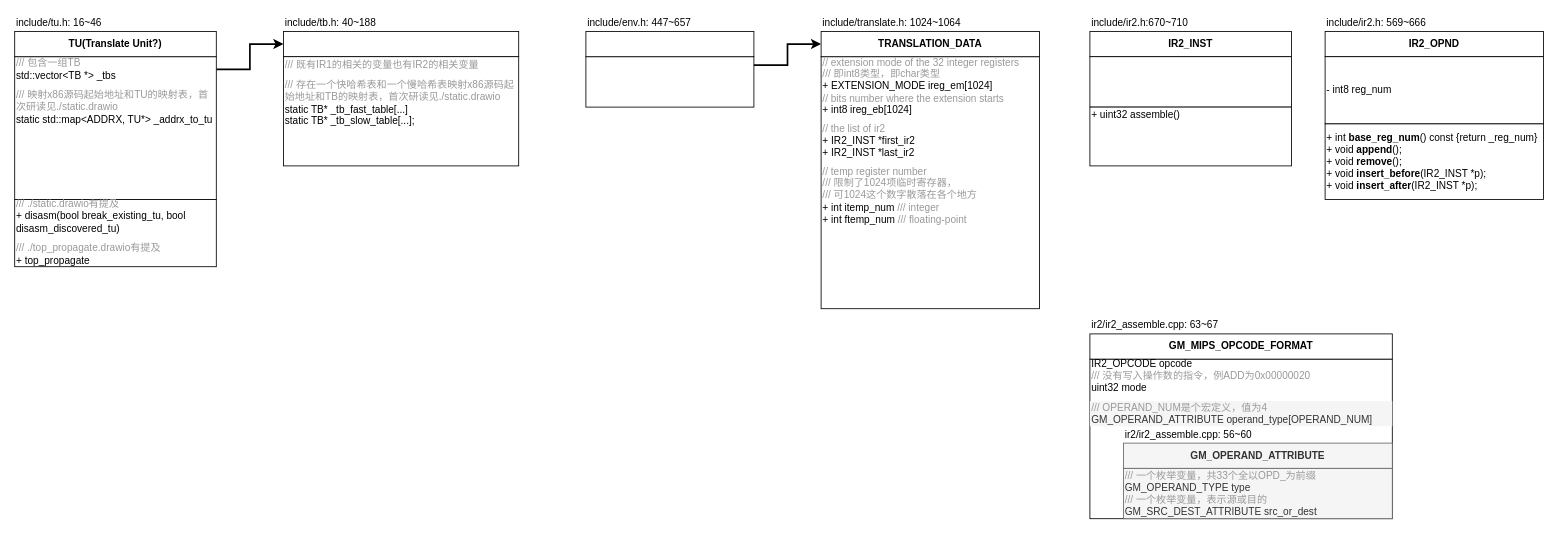
This 1558x533 diagram has some shape labels left out. The shapes that lost their labels are listed below. From the top down, each one's centre as x and y in pixels, then its label:
At point (401, 44): "TB(Translate Block)".
At point (669, 44): "ENV".
At point (669, 81): "+ TRANSLATION_DATA *tr_data".
